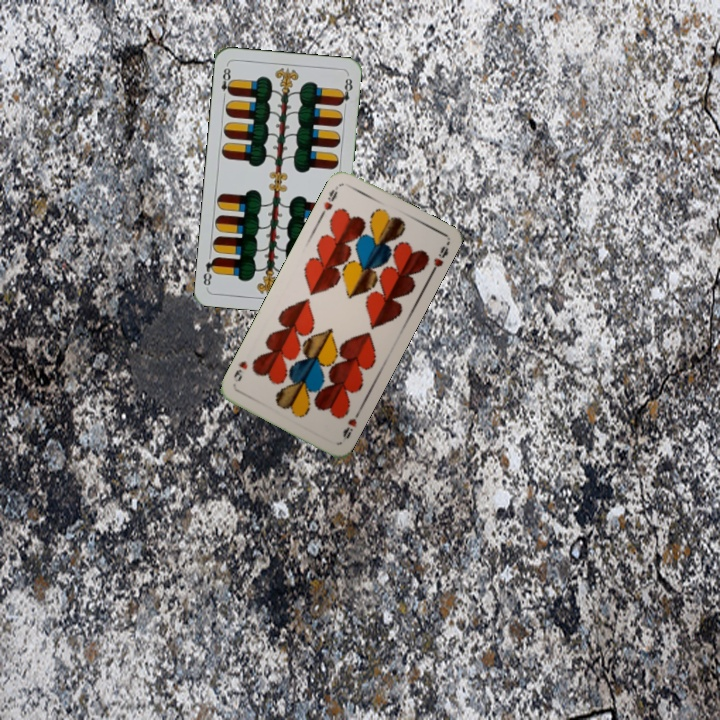E8: (217, 62, 235, 102)
H9: (338, 406, 363, 443), (316, 182, 341, 219)
